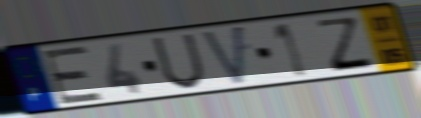1: (272, 21, 309, 79)
4: (105, 41, 146, 97)
E: (40, 43, 106, 107)
U: (149, 32, 208, 92)
V: (199, 22, 246, 88)
Z: (314, 15, 377, 74)
